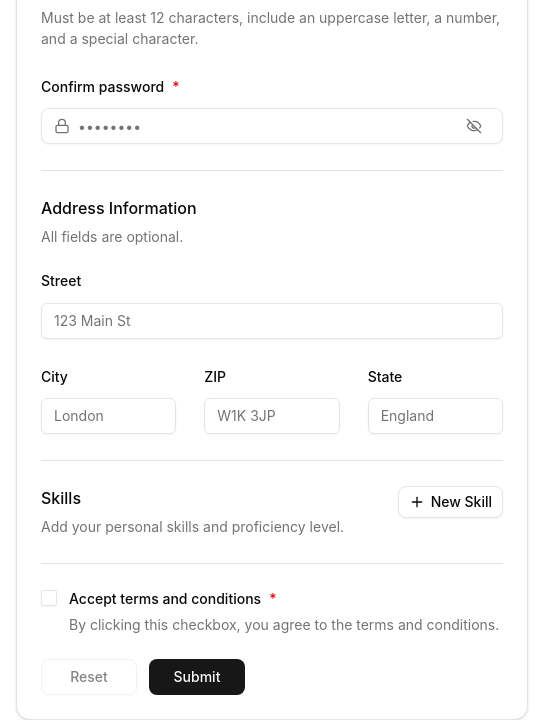
Test: RegisterForm › form display › clicking "New Skill" shows an inline skill name input
(page scrolled)
Click the button with aria-label "add new skill".
click(450, 502)  # box [398,486,503,518]
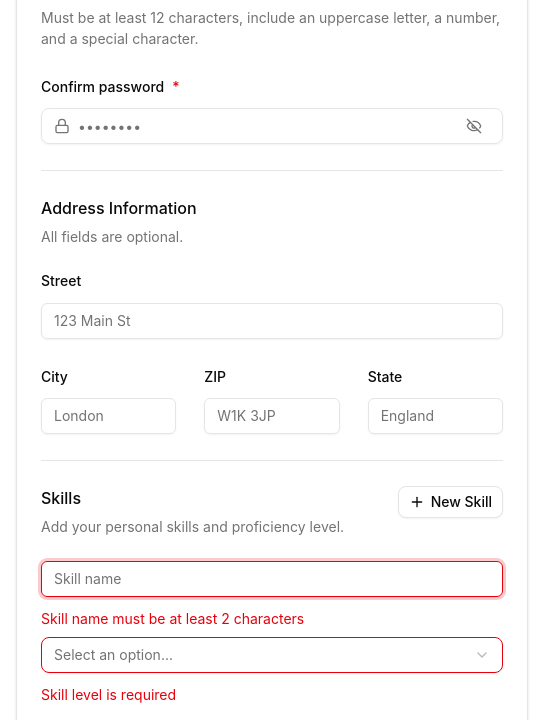
Now the field labelled "Skill name" is shown, box [41,561,503,597]
